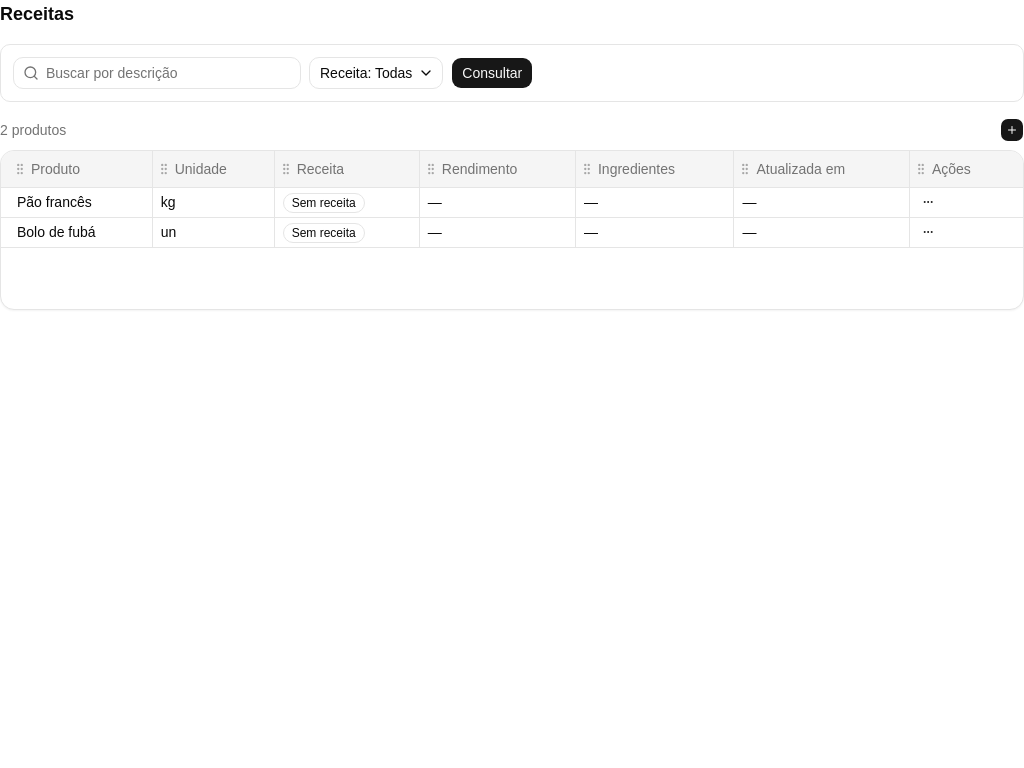
RecipesListPage › registers a missing ingredient over the recipe, and puts it on the row without losing what was typed
Click the button named "Ações de Pão francês": x=928, y=202 918,192 -> 938,212
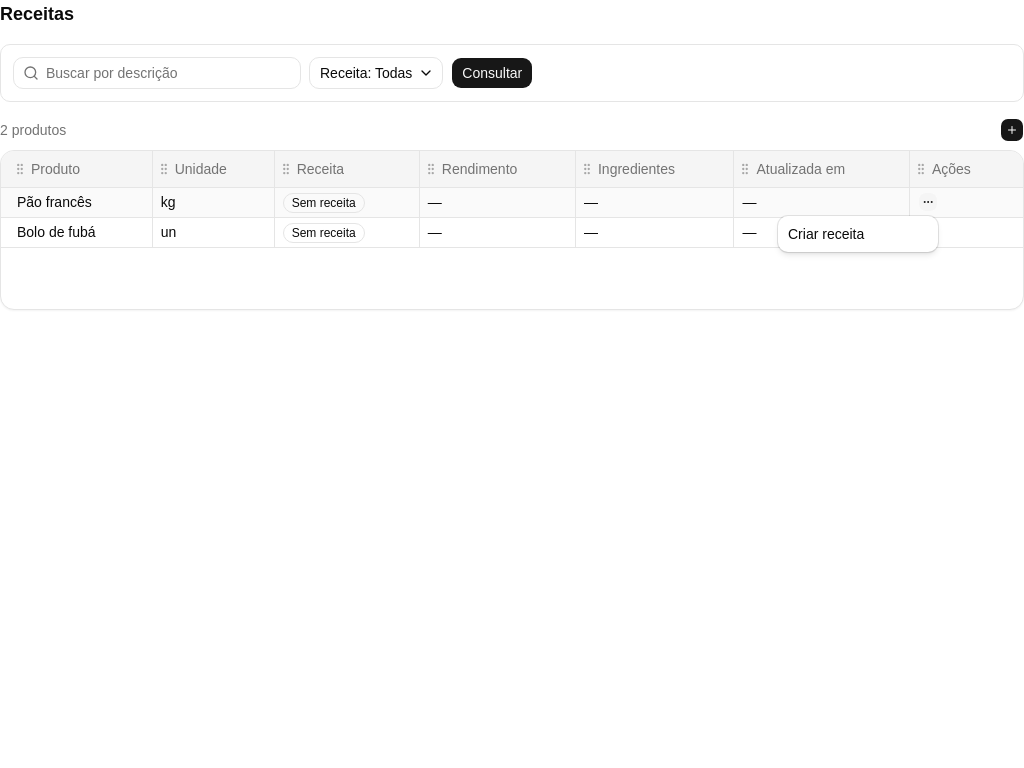
Click the menu item "Criar receita": x=826, y=234 788,226 -> 864,242
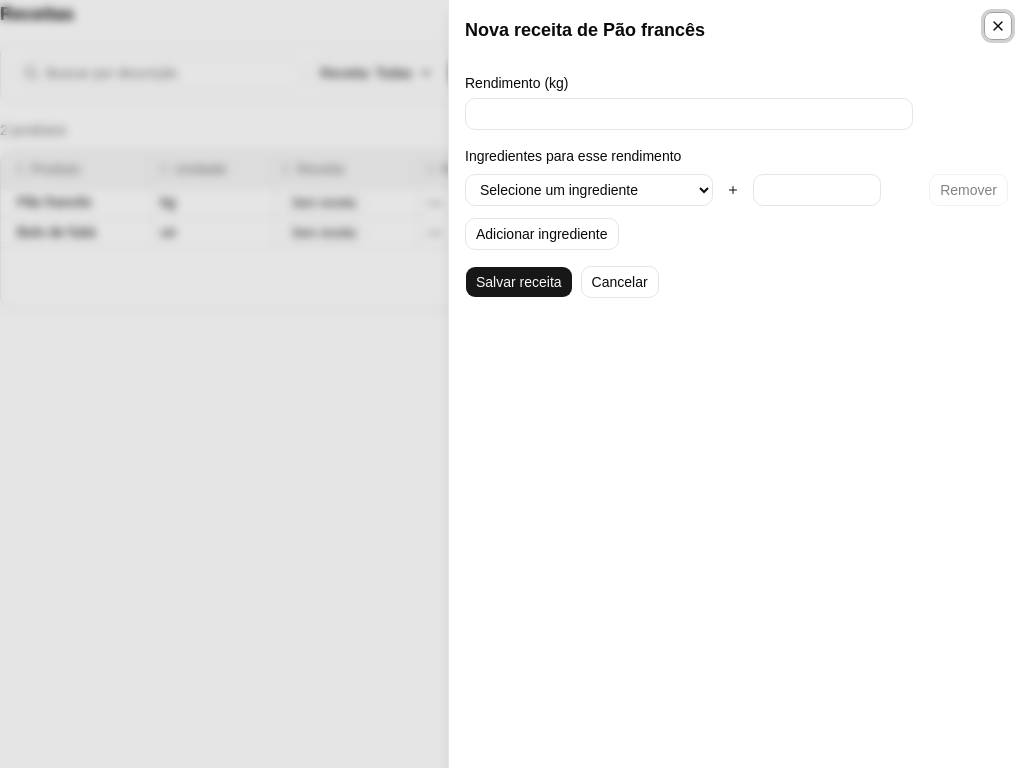
In the field labelled "Rendimento (kg)": x=689, y=114 465,98 -> 913,130, type "10"
Click the button named "Cadastrar ingrediente na linha 1": x=733, y=190 721,178 -> 745,202
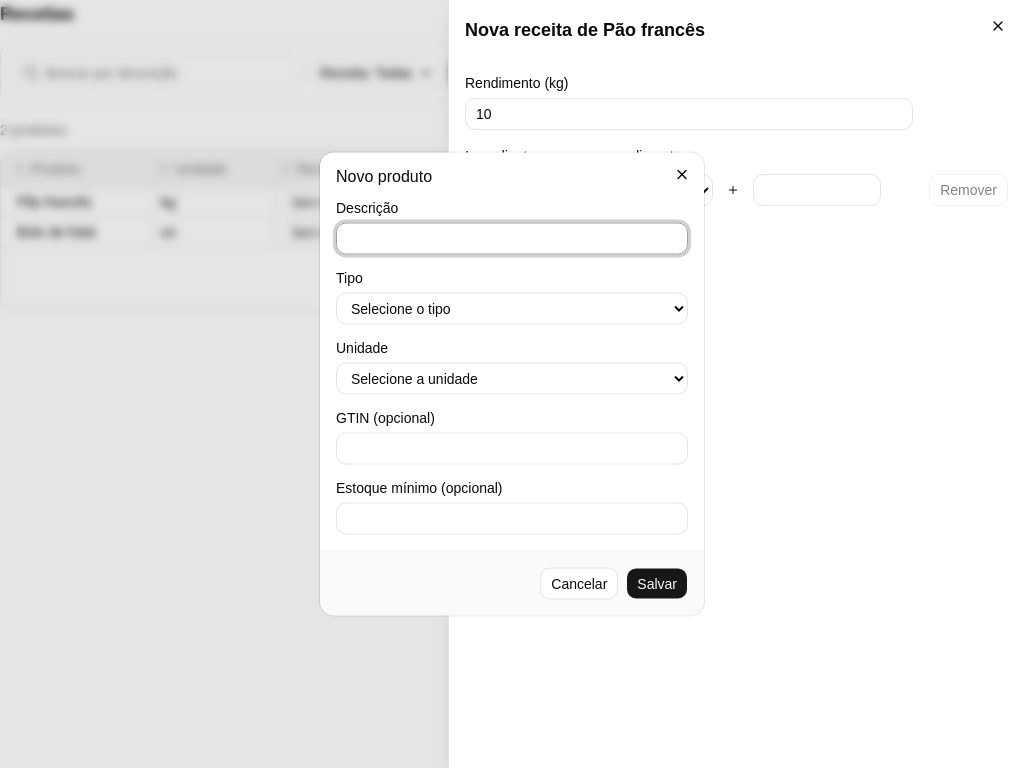
In the field labelled "Descrição": x=512, y=238 336,222 -> 688,254, type "Fermento"
Select "Mercadoria" in the dropdown labelled "Tipo": x=512, y=308 336,292 -> 688,324
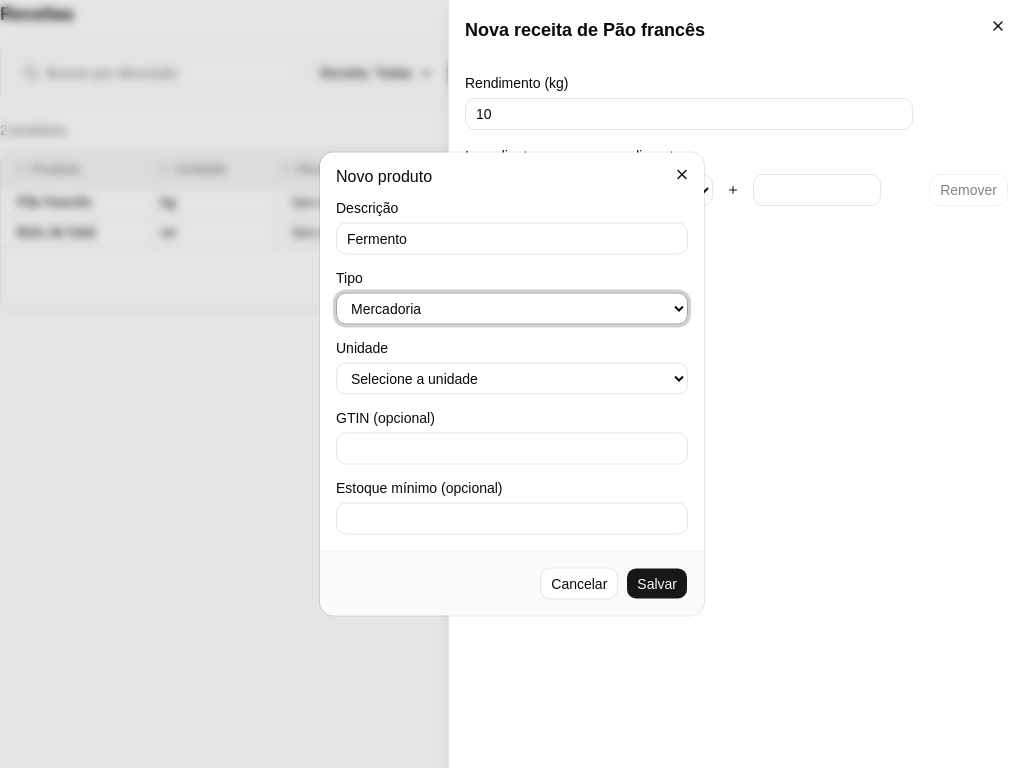
Select "Grama (g)" in the dropdown labelled "Unidade": x=512, y=378 336,362 -> 688,394
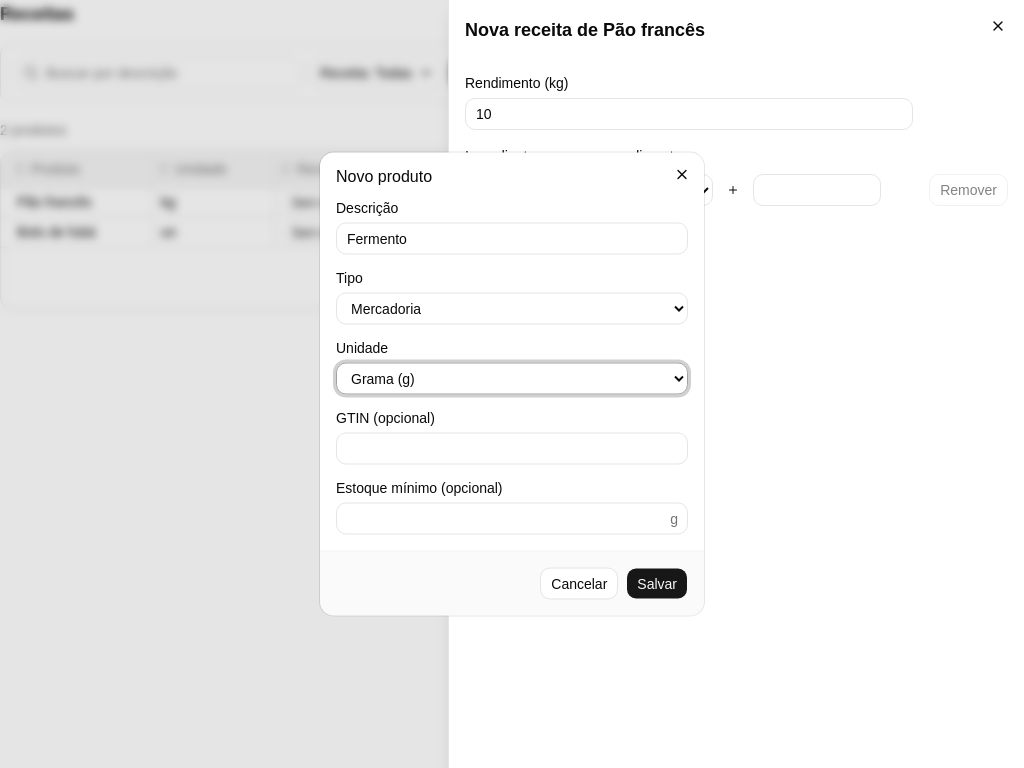
Click the button "Salvar": x=657, y=584 626,568 -> 688,600
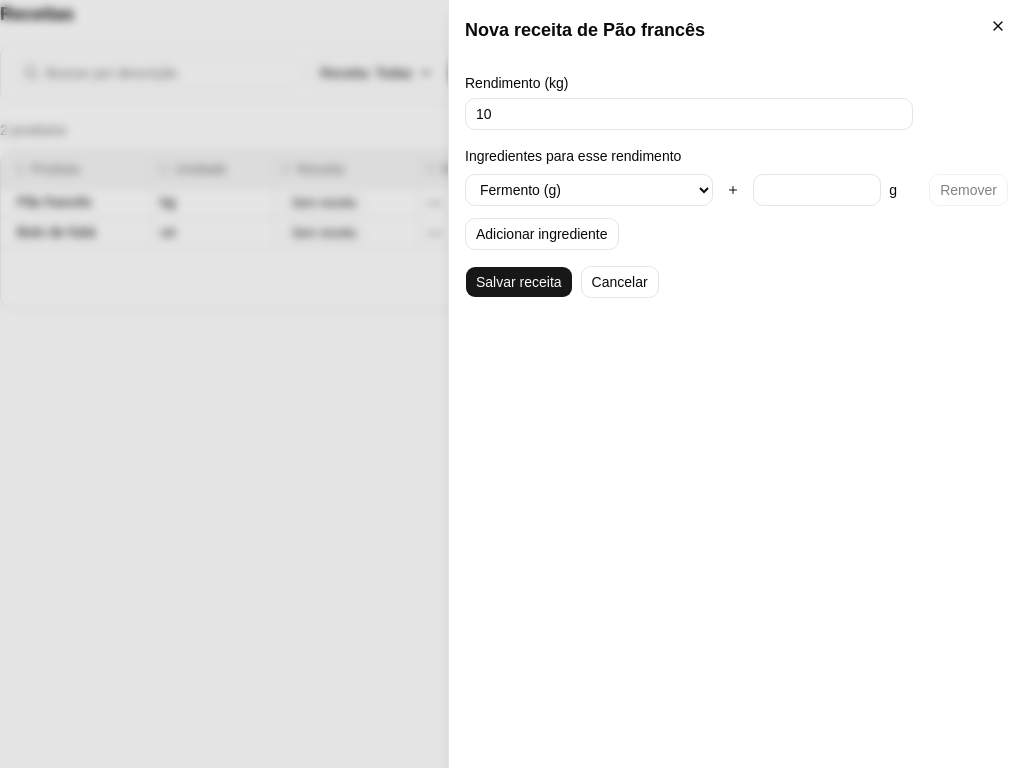
Expected: the text with test id "ingredient-unit-1" reads "g", 889,182 -> 897,198
Expected: the heading "Novo produto" is gone
Expected: the dropdown named "Ingrediente 1" shows "Fermento (g)", 465,174 -> 713,206
